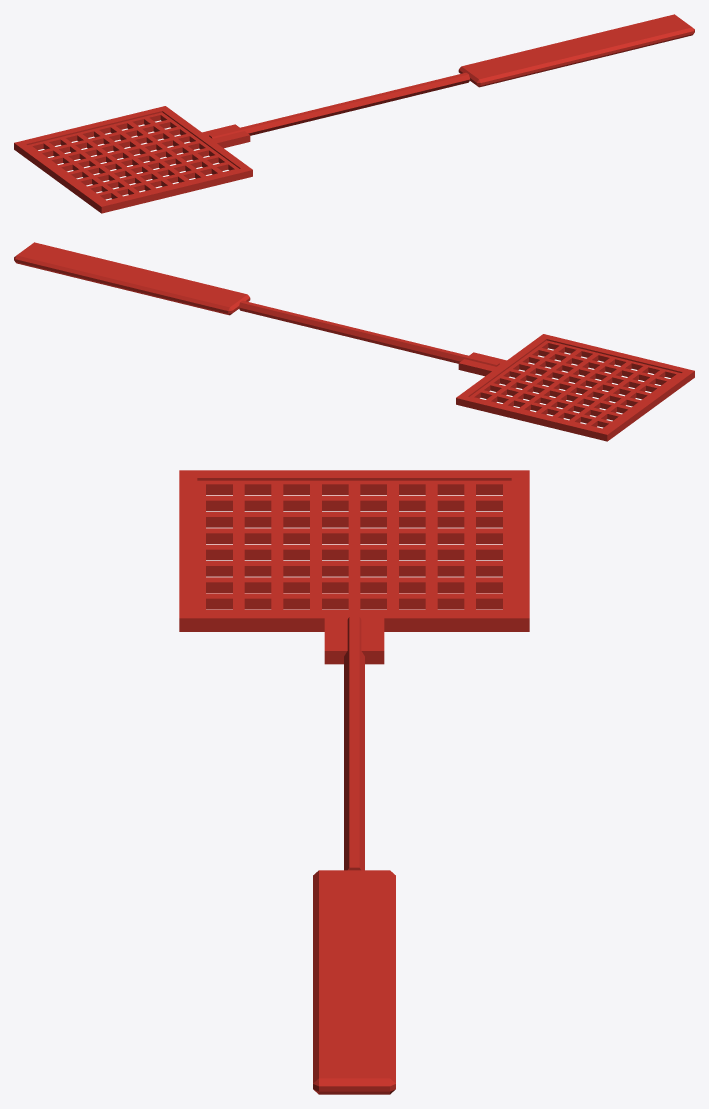
Rendered from kitchen_swatter.glb.
3 renders of one model, top to bottom at view 1: azimuth 30°, elevation 25°; view 2: azimuth 150°, elevation 25°; view 3: azimuth 270°, elevation 25°, orthographic. The views are drawn at different scales.
Parts seen in each view (by area): view 1: kitchen_swatter; view 2: kitchen_swatter; view 3: kitchen_swatter.
Part boxes in pixels (<box>): kitchen_swatter: <box>14,14,694,213</box>; kitchen_swatter: <box>14,242,694,441</box>; kitchen_swatter: <box>179,470,529,1094</box>.
Size of the model in its own units: 0.489 by 0.00606 by 0.118.
